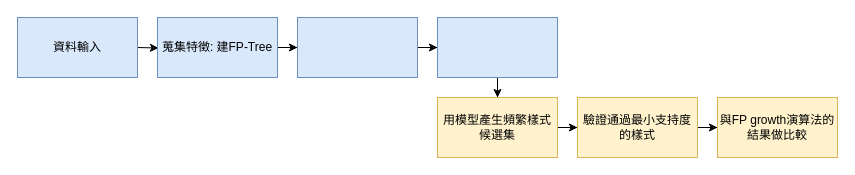
Image size: 855x175. Some labels were removed from this diagram. The shapes that lost their labels are listed below. From the top down, each one's box as (x1, y1, x2, y2) in pixels, then its label:
(296, 16, 418, 78): XGBoost訓練
(436, 16, 558, 78): 儲存模型 評估模型正確率
